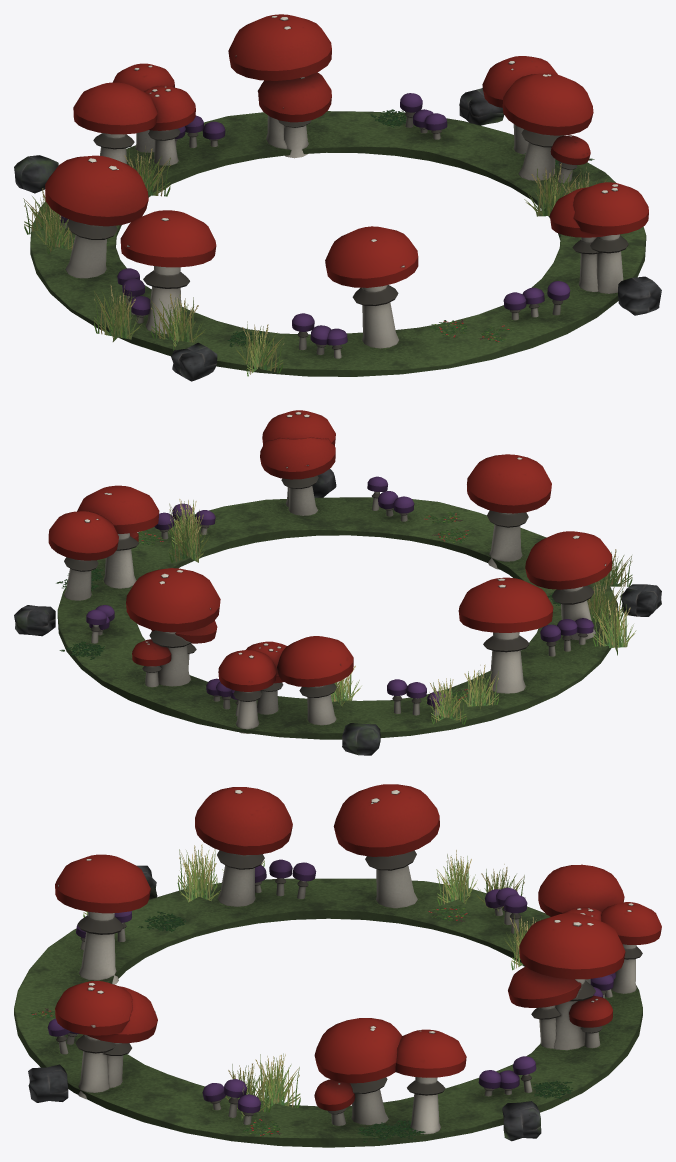
Rendered from ToadstoolRing.fbx.
3 views of the same model, one above another, from view 1: azimuth 30°, elevation 25°; view 2: azimuth 150°, elevation 25°; view 3: azimuth 270°, elevation 25° (orthographic). The views are drawn at different scales.
Parts seen in each view (by area): view 1: ToadstoolRing_Main, ToadstoolRing_Leaves; view 2: ToadstoolRing_Main, ToadstoolRing_Leaves; view 3: ToadstoolRing_Main, ToadstoolRing_Leaves.
Boxes of the visible parts, x1,y1,x2,y2 form: ToadstoolRing_Main: [14, 14, 661, 381]; ToadstoolRing_Leaves: [23, 109, 607, 376]; ToadstoolRing_Main: [14, 410, 661, 755]; ToadstoolRing_Leaves: [56, 499, 636, 724]; ToadstoolRing_Main: [14, 784, 661, 1147]; ToadstoolRing_Leaves: [29, 844, 572, 1142].
Bounding box in the file's own units: 745 × 163 × 742.
